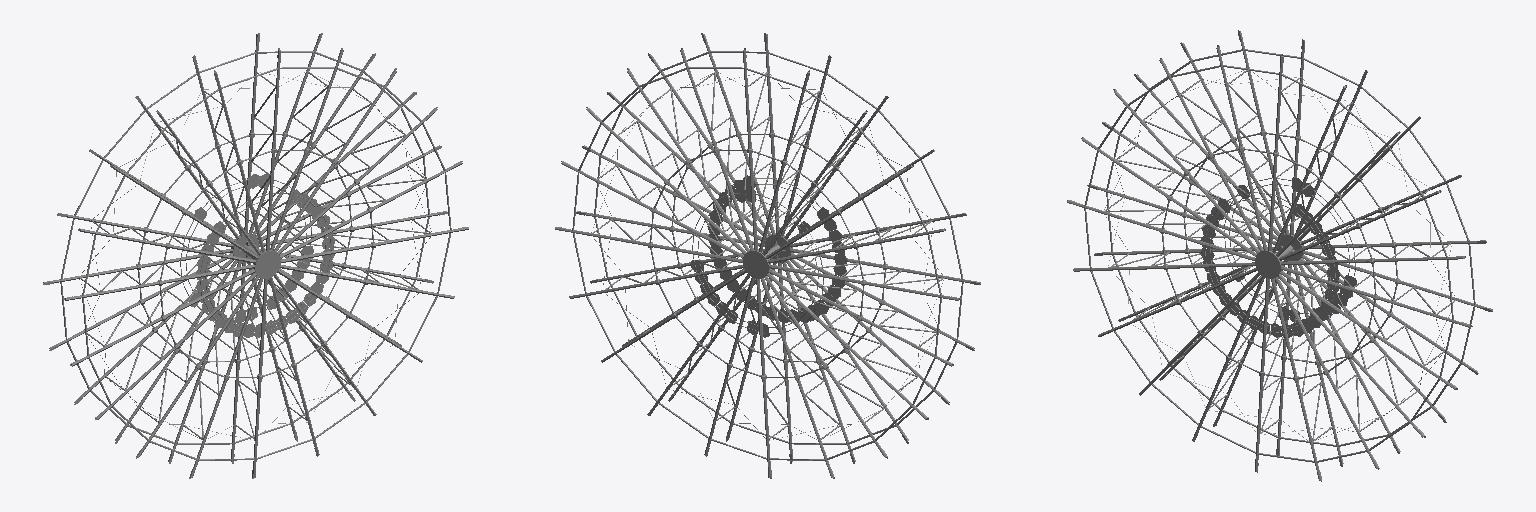
The model's file is rueda_fortuna_parte_una_prueba.obj.
The picture shows the model from 3 angles: view 1: azimuth 30°, elevation 25°; view 2: azimuth 150°, elevation 25°; view 3: azimuth 330°, elevation 25°; orthographic projection.
Visible parts, largest first — view 1: 2, 3, 4, 6, 1; view 2: 2, 3, 4, 6, 1; view 3: 2, 3, 4, 6, 1.
Part boxes in pixels (x1,y1,x2,y2): 2: (43, 33, 468, 478); 3: (60, 51, 451, 460); 4: (79, 71, 431, 440); 6: (189, 174, 335, 337); 1: (231, 234, 280, 278); 2: (555, 33, 980, 478); 3: (572, 51, 963, 460); 4: (591, 71, 944, 440); 6: (691, 175, 847, 337); 1: (743, 234, 792, 278); 2: (1067, 30, 1492, 481); 3: (1084, 49, 1475, 462); 4: (1104, 70, 1456, 441); 6: (1200, 178, 1356, 337); 1: (1255, 233, 1303, 278).
Bounding box in the file's own units: 22.32 × 22.32 × 2.36.